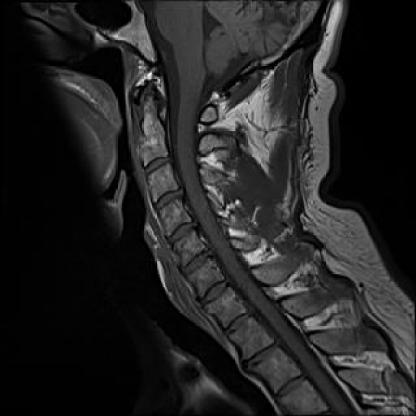Disc Bulgerotation: (177, 247, 218, 271), (164, 223, 202, 242)
Disc Protrusionrotation: (150, 189, 187, 208)
